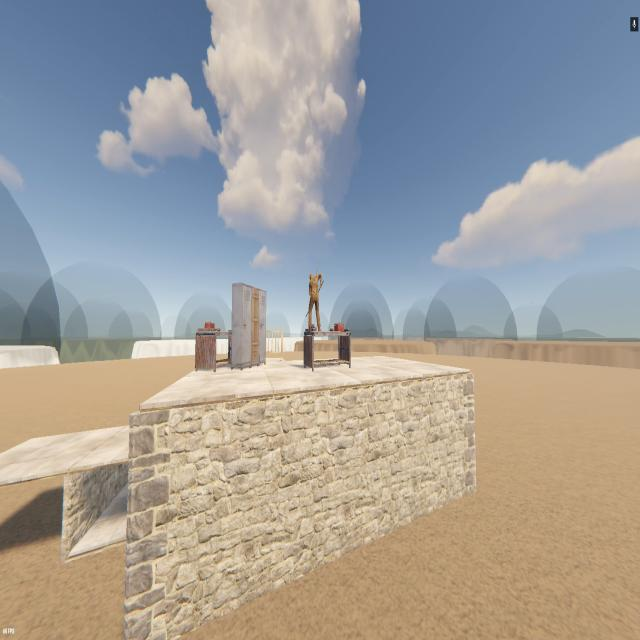Player: (308, 271, 322, 333)
